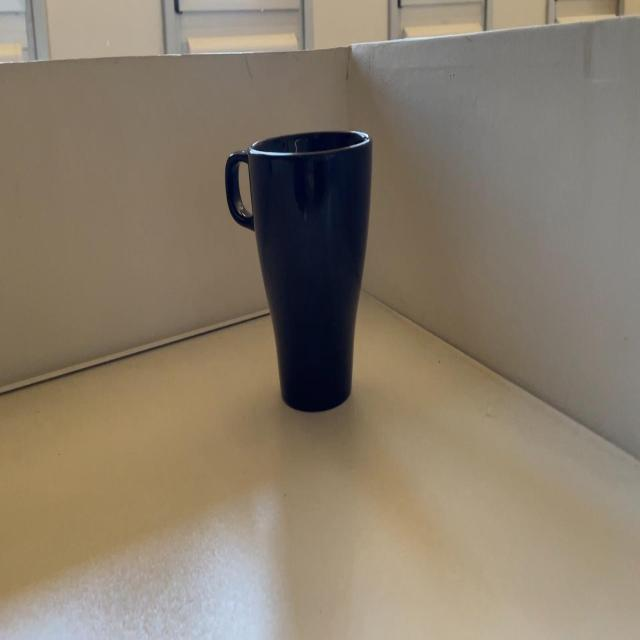cup: (228, 130, 386, 414)
